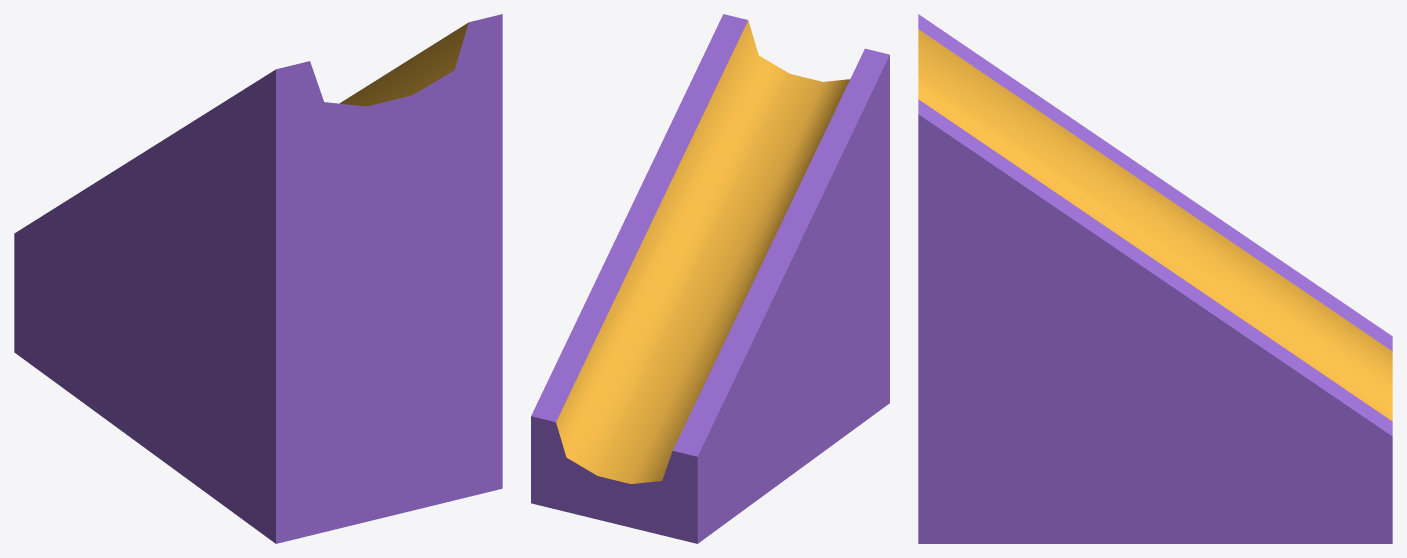
File: slant-solid-long-d.glb
3 views of the same model, side by side, from view 1: azimuth 30°, elevation 25°; view 2: azimuth 150°, elevation 25°; view 3: azimuth 270°, elevation 25° (orthographic). The views are drawn at different scales.
Parts seen in each view (by area): view 1: slant-solid-long-d; view 2: slant-solid-long-d; view 3: slant-solid-long-d.
Part boxes in pixels (x1,y1,x2,y2): slant-solid-long-d: (14, 14, 502, 543); slant-solid-long-d: (531, 14, 889, 543); slant-solid-long-d: (918, 14, 1392, 543).
Bounding box in the file's own units: 1 × 2 × 2.
Materials: 1 (1 with a texture image).
